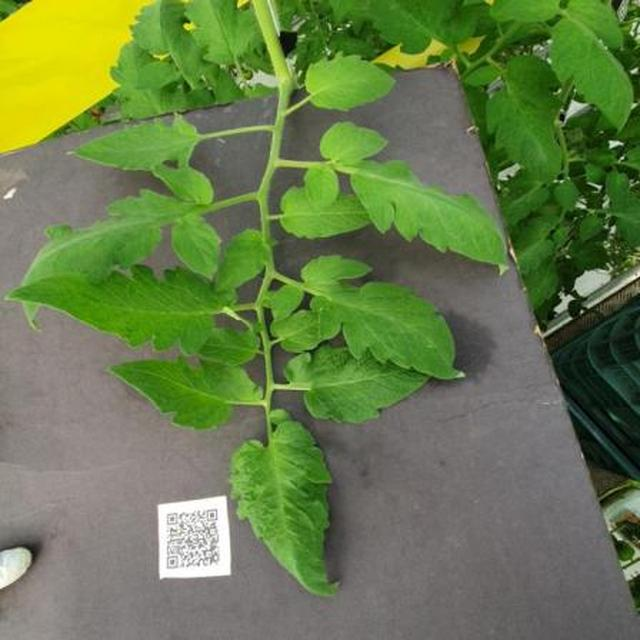Healthy Leaf: (134, 83, 616, 640)
